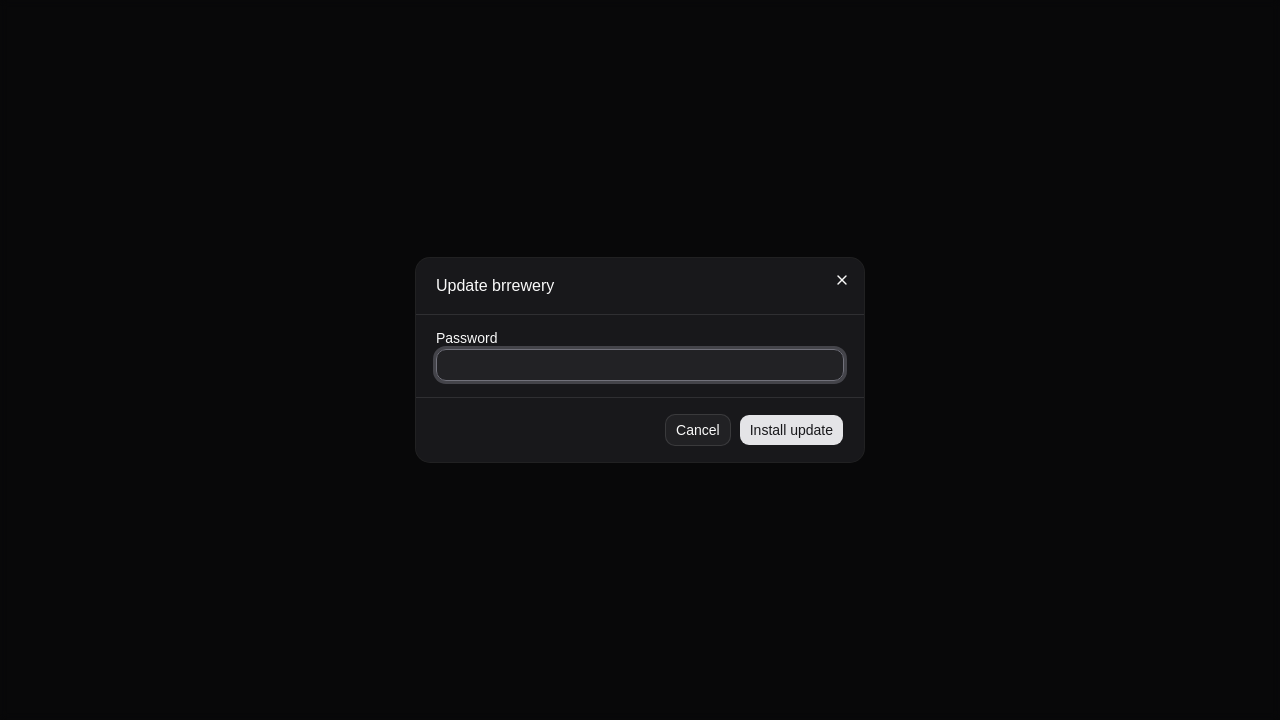
Test: UpdateModal › rejects a wrong password without starting the update
In the password field labelled "Password": [640, 365] box [436, 349, 844, 381], type "nope"
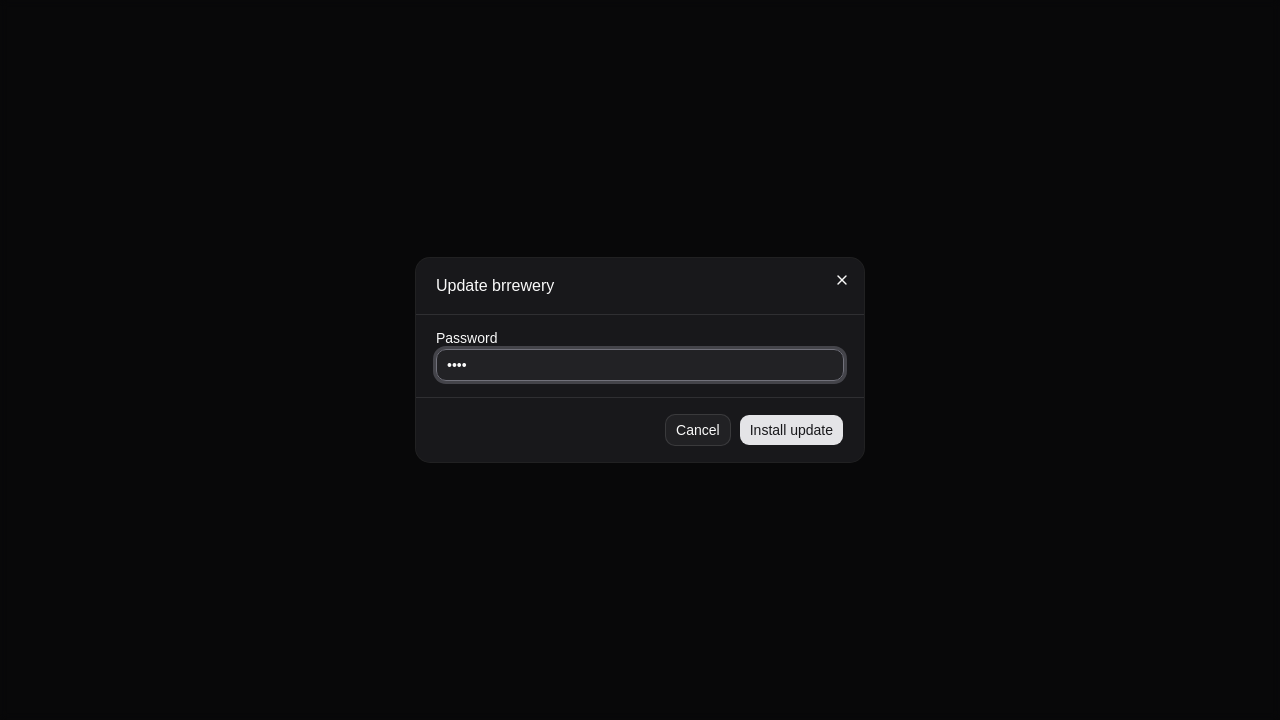
Click the button "Install update": [791, 430] box [739, 414, 844, 446]
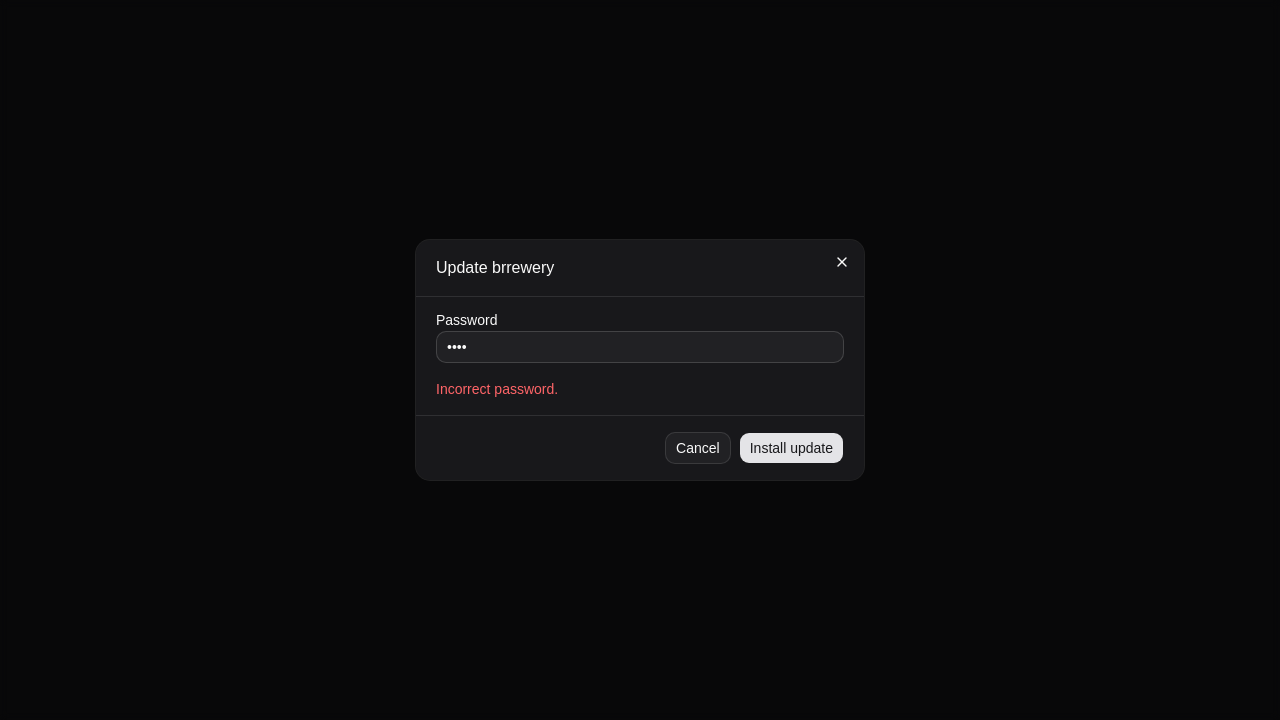
Now the text "Incorrect password." is shown, box [436, 381, 558, 397]
